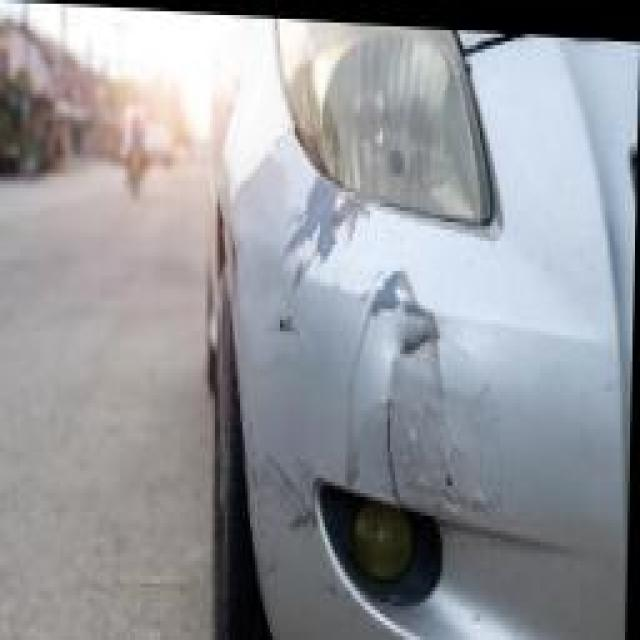Bumper: (207, 122, 629, 640)
